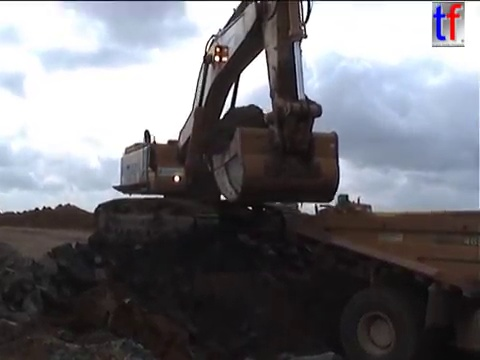excavator: (90, 1, 343, 249)
truck: (290, 208, 480, 360)
wheel loader: (307, 192, 375, 224)
